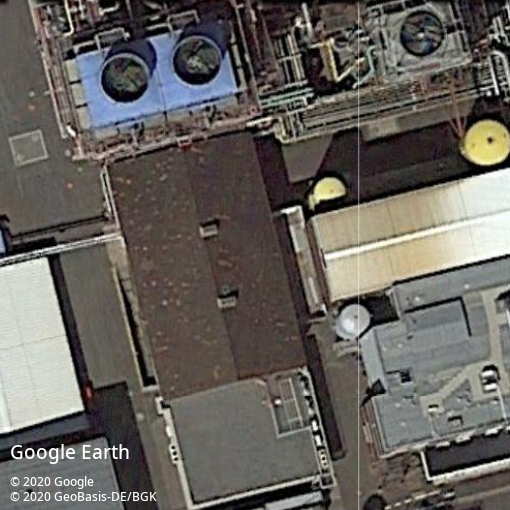Vent: (171, 35, 223, 90), (99, 53, 150, 105), (399, 10, 445, 58)
